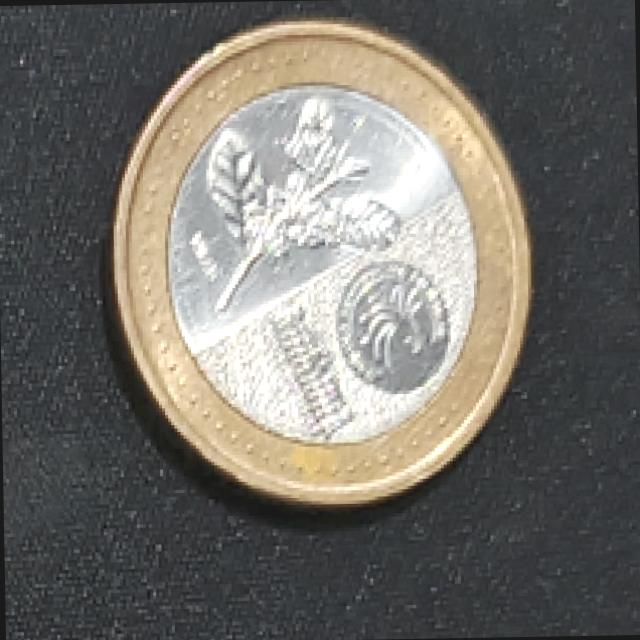20_peso: (113, 21, 527, 503)
